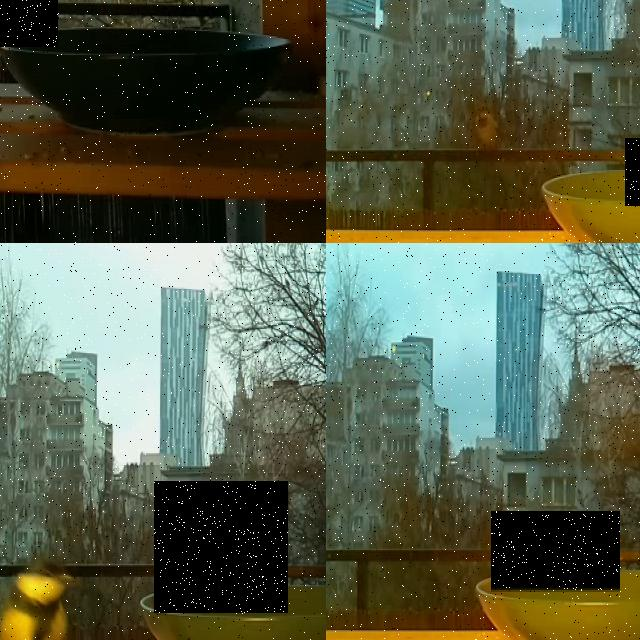Bogatka: (0, 550, 80, 640)
Modraszka: (491, 512, 620, 592), (0, 0, 58, 46)
Wrobel: (154, 481, 288, 613)
